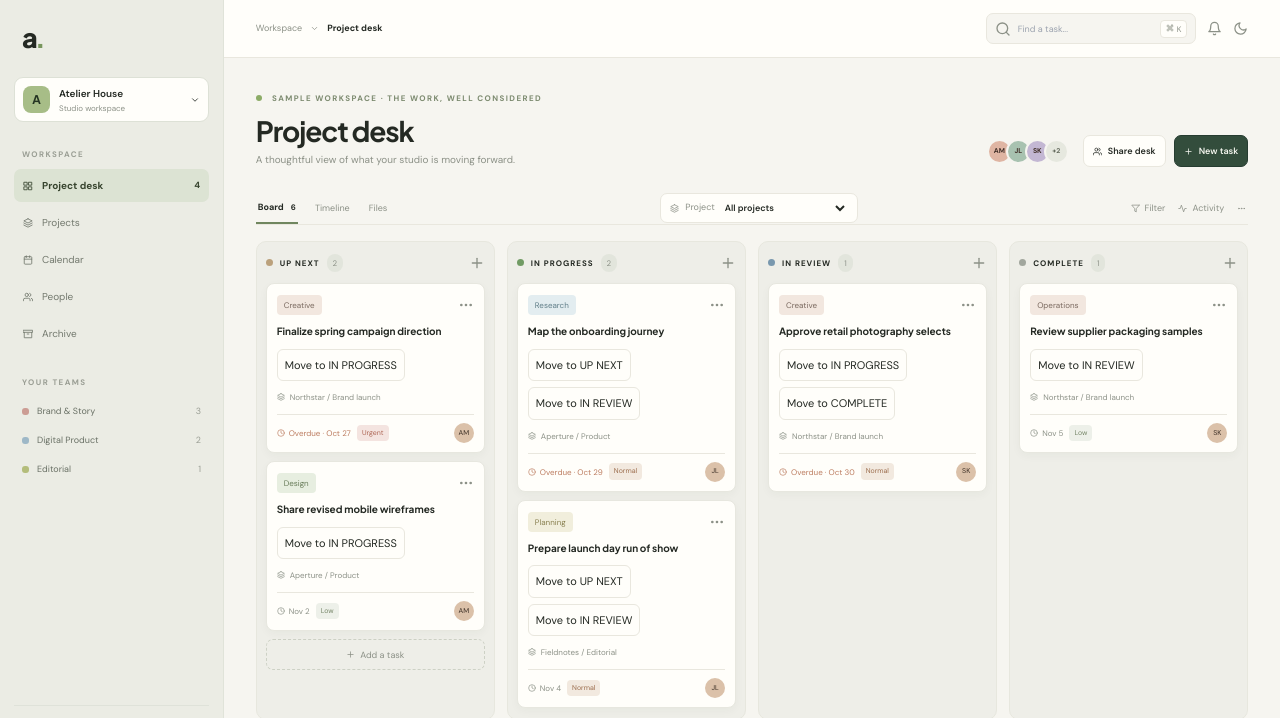
Test: Atelier task editor › shows field errors, focuses the first invalid field and adds no task
Step 1. Click the button "New task" → x=1211, y=151, box [1174,135,1248,167]
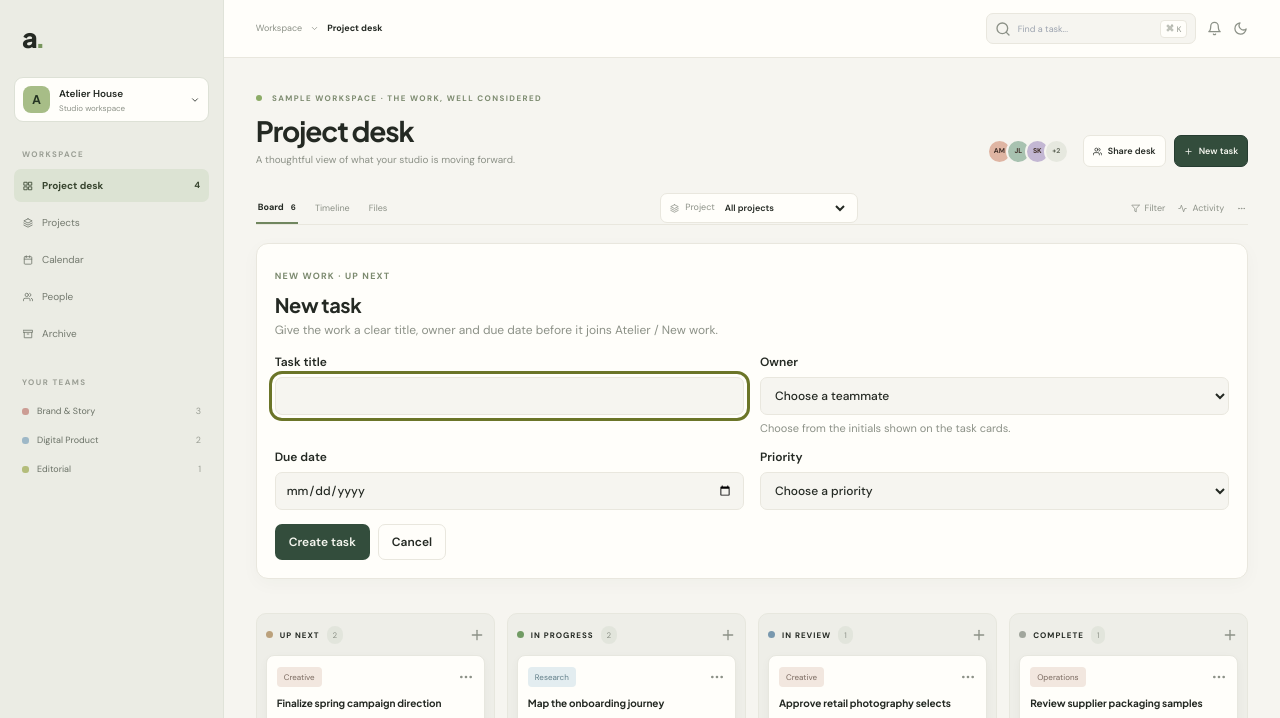
Step 2. Click the button "Create task" → x=322, y=542, box [275,524,370,560]
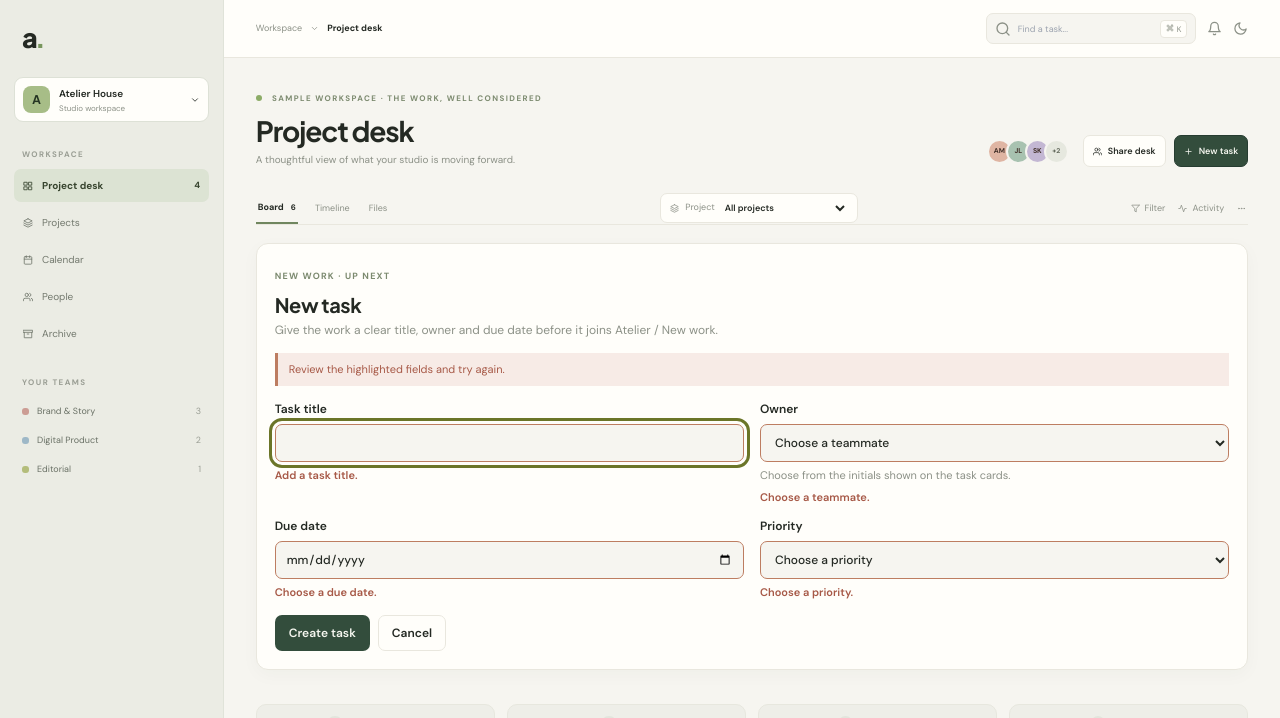
Result: the message shows "Review the highlighted fields" at [289,362,505,376]
Result: the text "Add a task title." is shown at [275,468,358,482]
Result: the text "Choose a teammate." is shown at [760,490,870,504]
